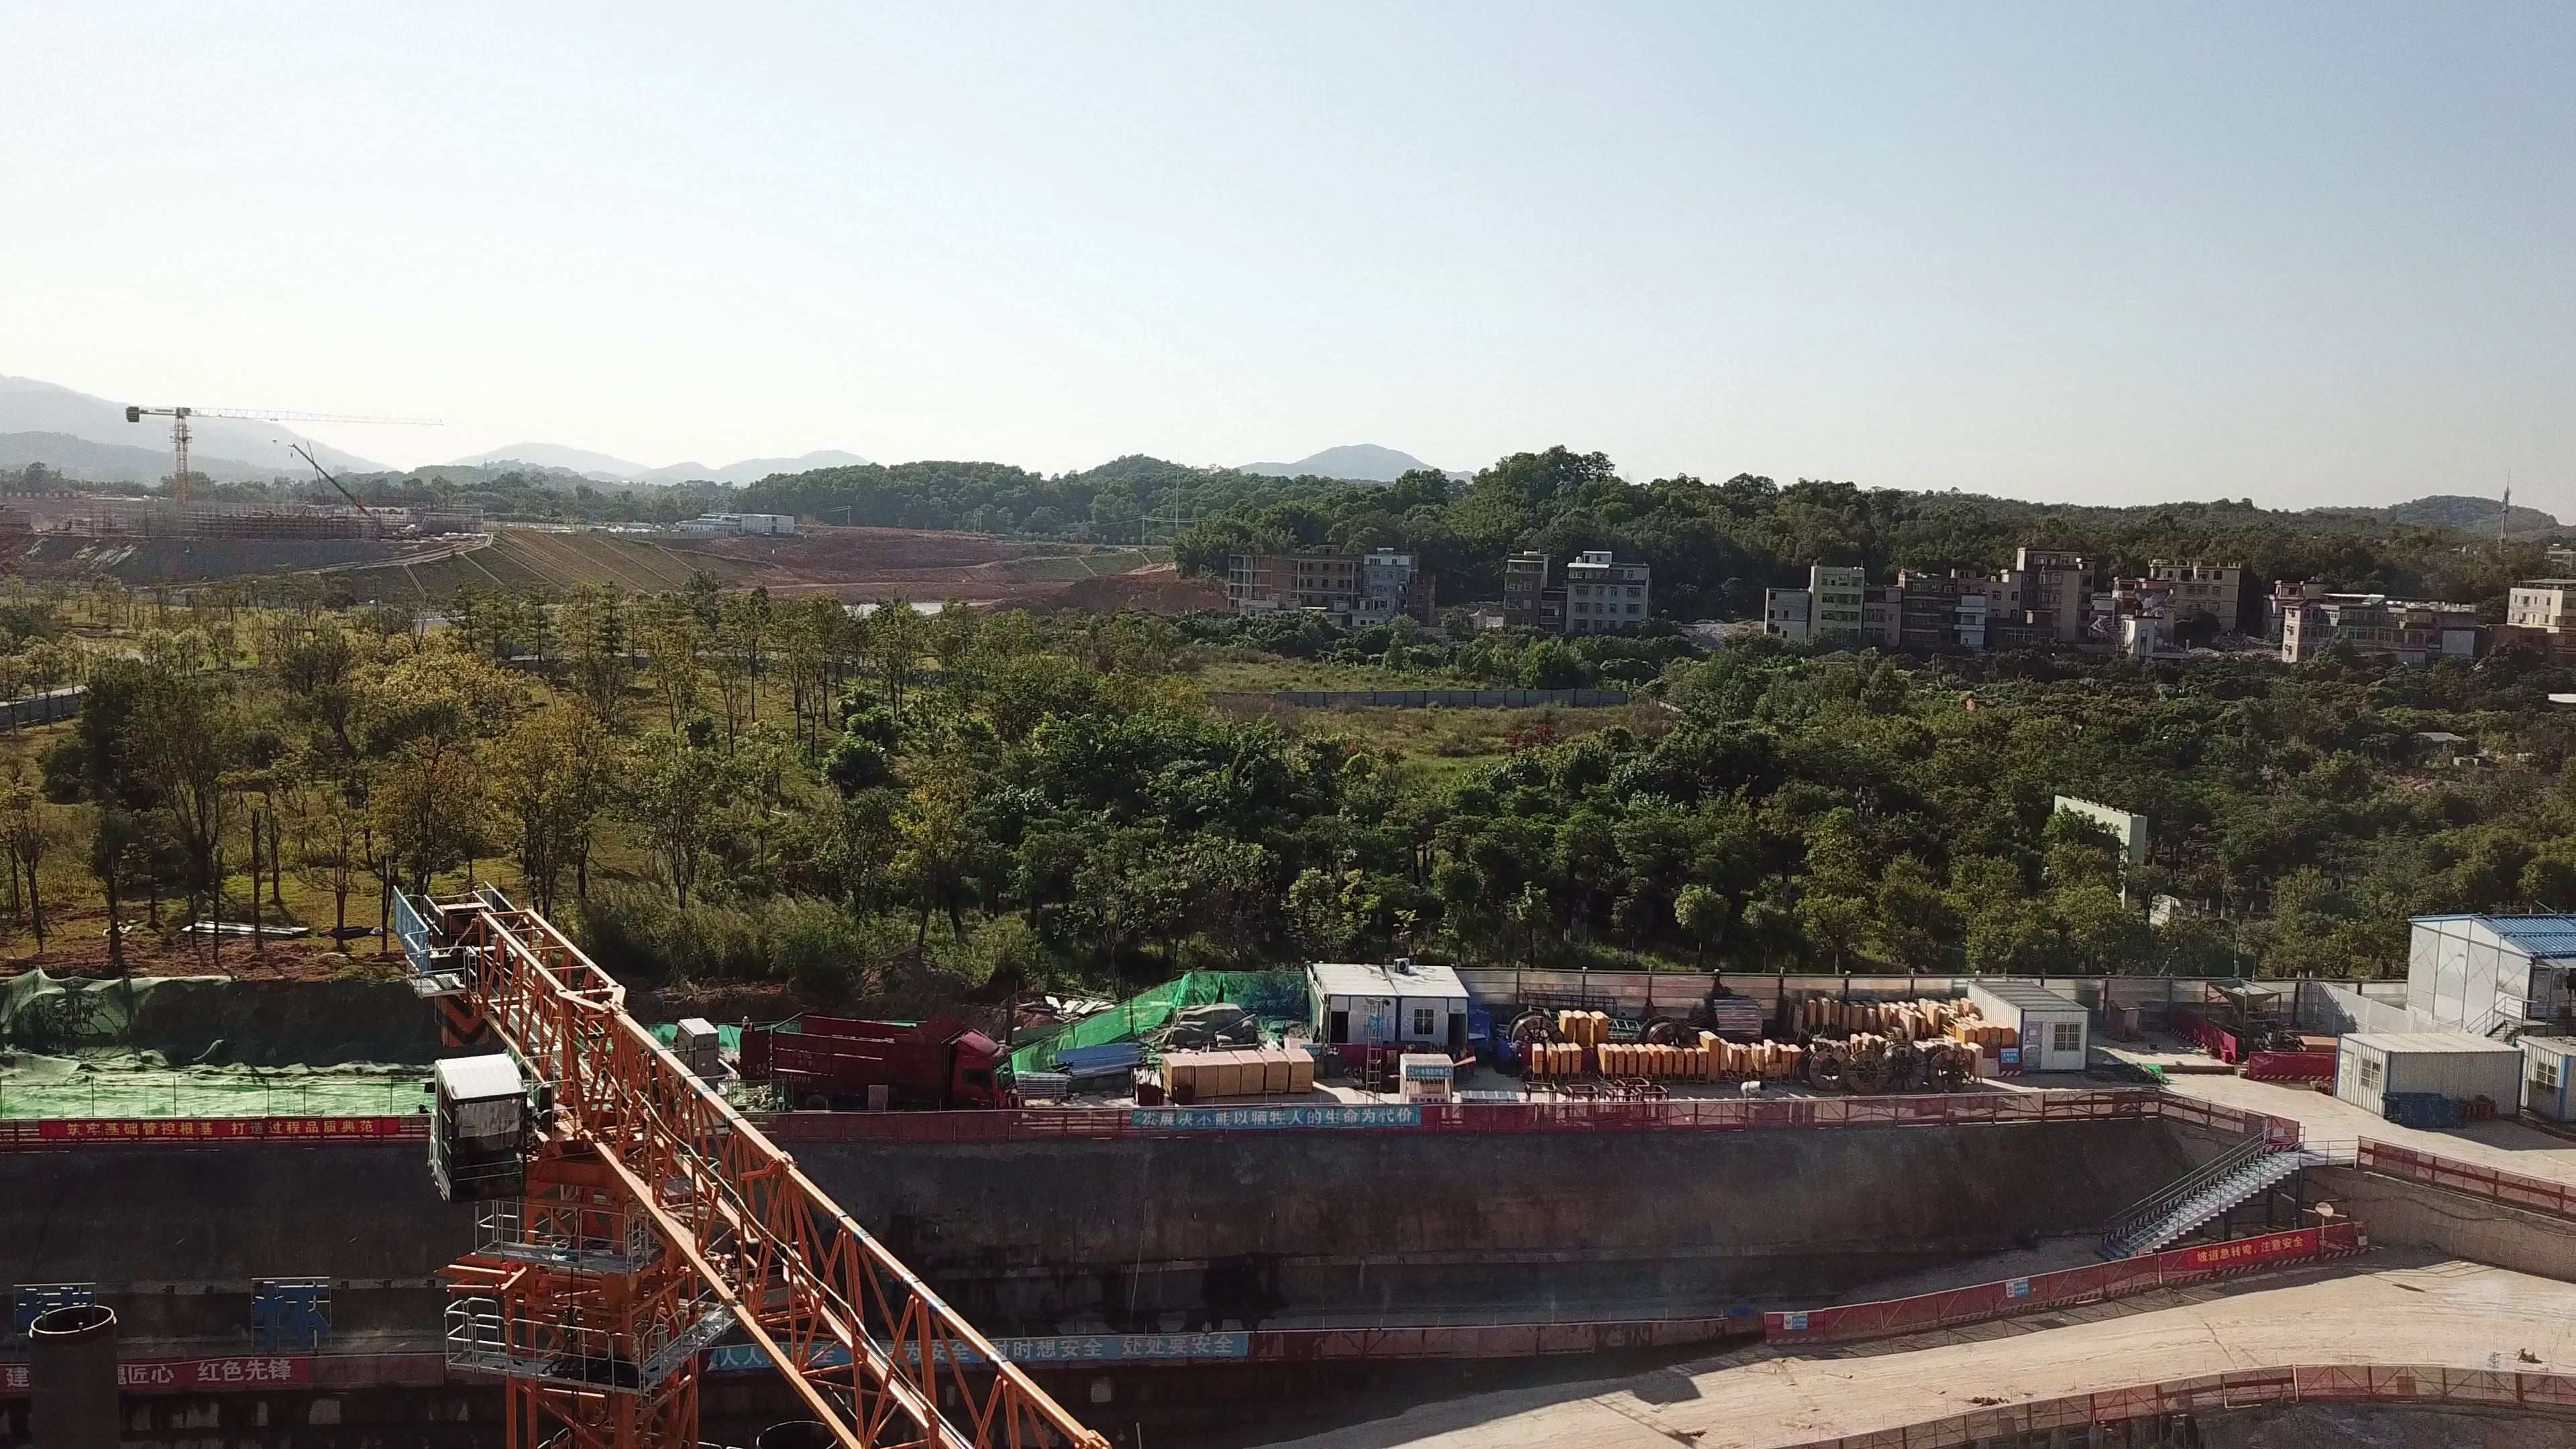fence: (1040, 1092, 2122, 1156), (924, 1311, 2072, 1364), (1538, 961, 2261, 1034)
helmet: (741, 1016, 748, 1021)
person: (733, 1009, 760, 1030)
scaffold: (1007, 1054, 1067, 1101), (1130, 1065, 1163, 1102)
slogan: (717, 1322, 1257, 1364), (37, 1112, 406, 1144), (21, 1351, 305, 1395), (1131, 1108, 1430, 1137), (2184, 1233, 2308, 1264)
wood: (1164, 1039, 1326, 1096)
